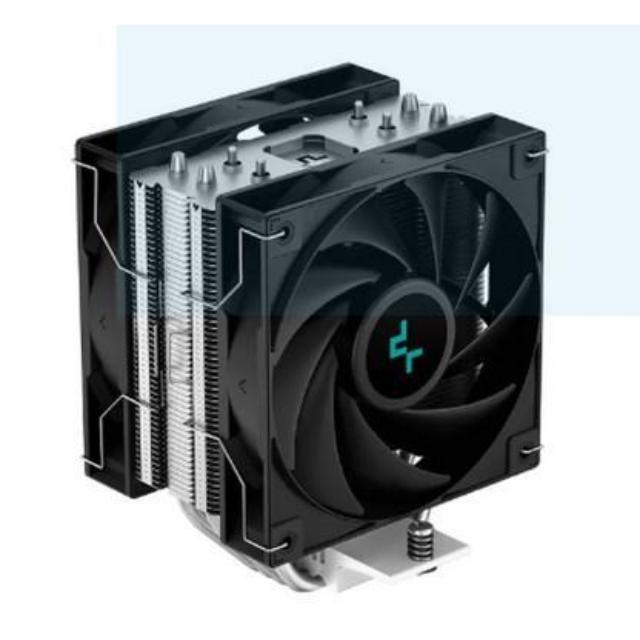CPU_Fan: (70, 61, 544, 594)
